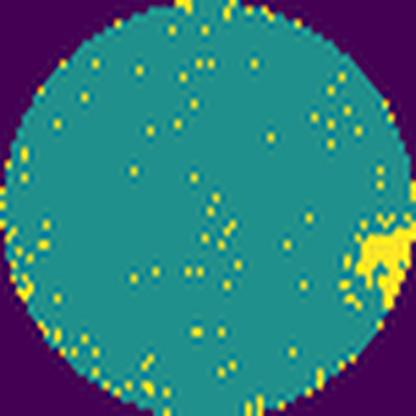Edge-Loc: (352, 214, 415, 316)
